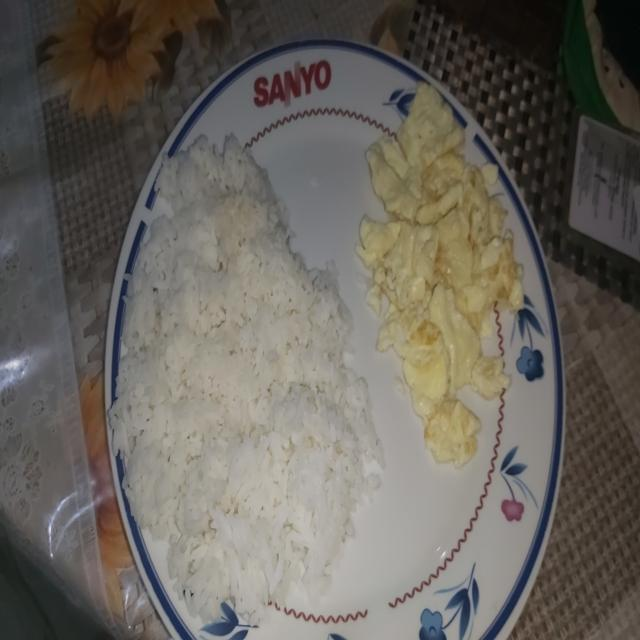Chicken -Chicken Inasal-: (115, 127, 361, 608)
